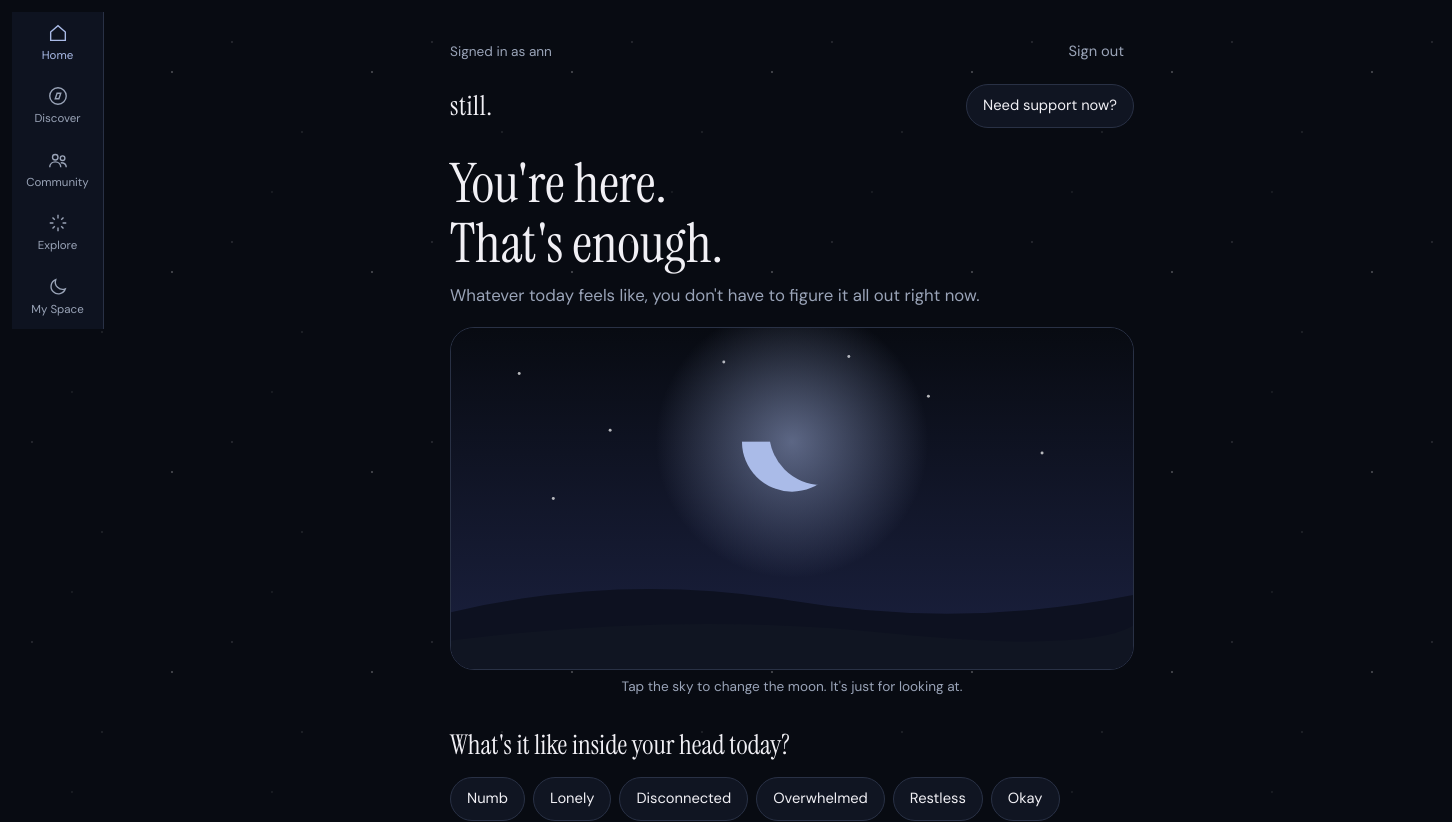
Scenario: a failed check-in shows an error toast and no check-in
The image size is (1452, 822).
Expected: the text "Signed in as ann" is shown, [450,41,552,63]
Click the button "Lonely" at coordinates (572, 799), box [533,777,611,821]
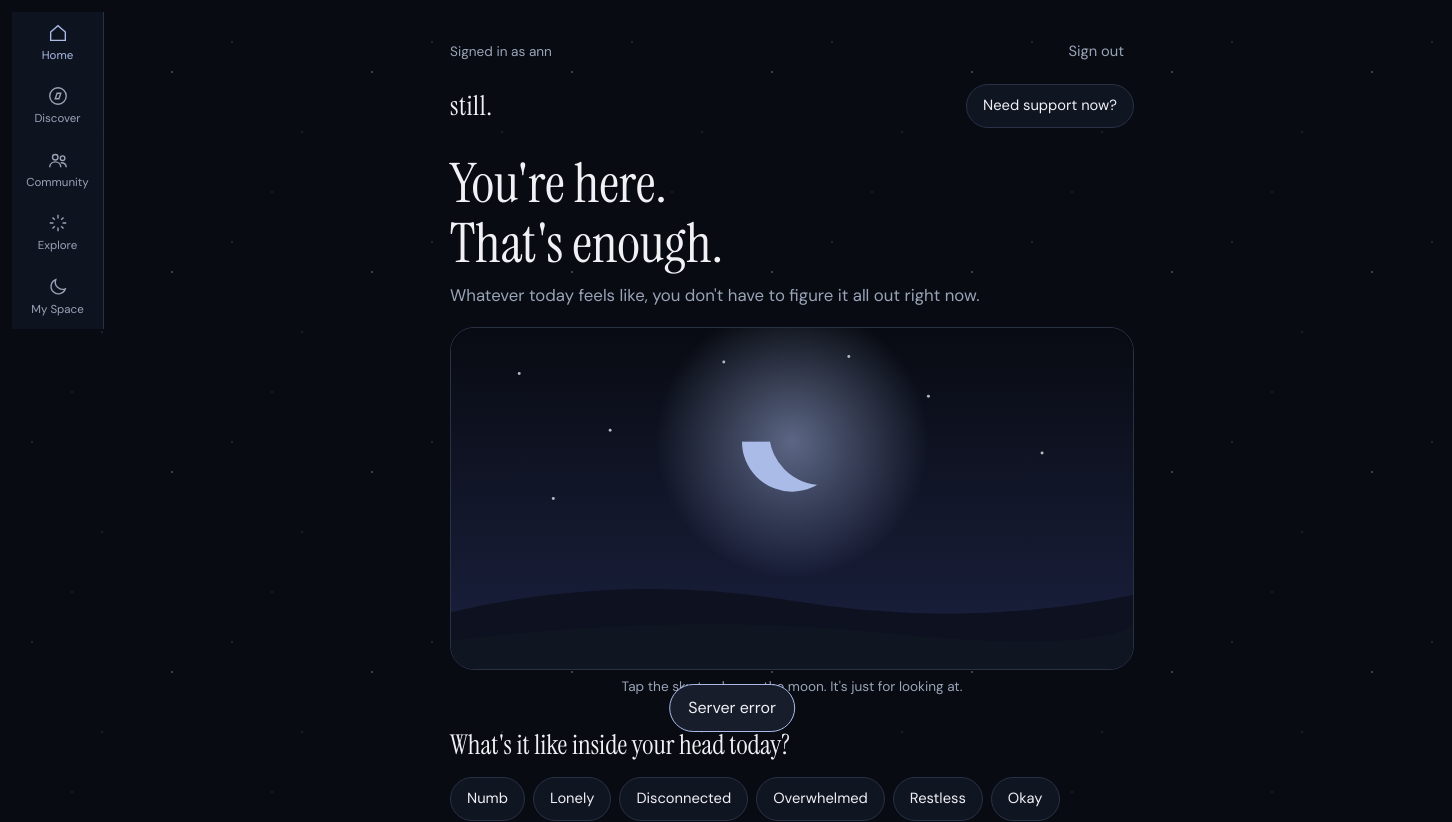
Now the text "Server error" is shown, box [669,684,795,732]
Click the button "My Space" at coordinates (58, 297), box [12,266,103,329]
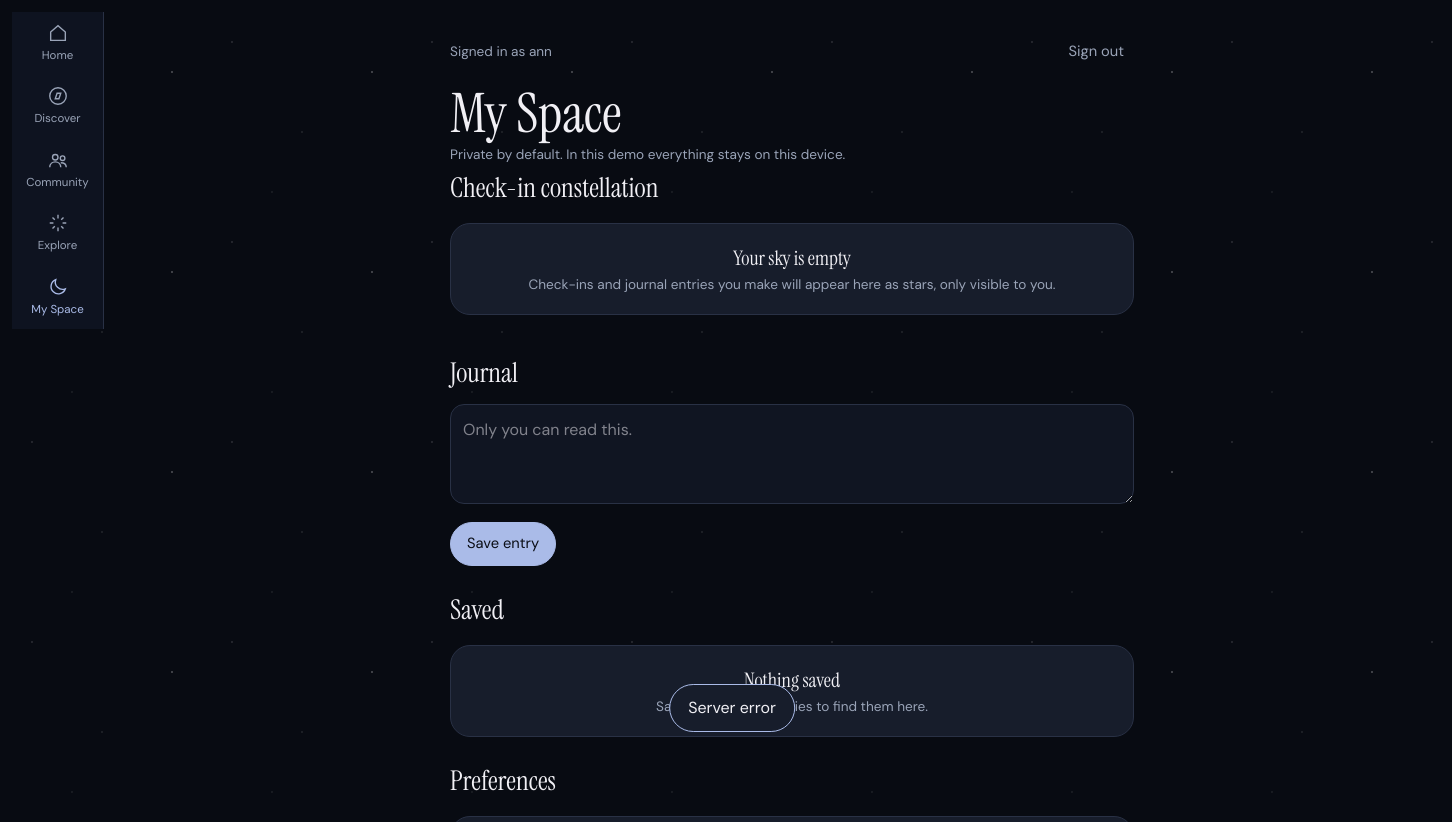
Now the heading "Your sky is empty" is shown, box [733,245,851,271]
